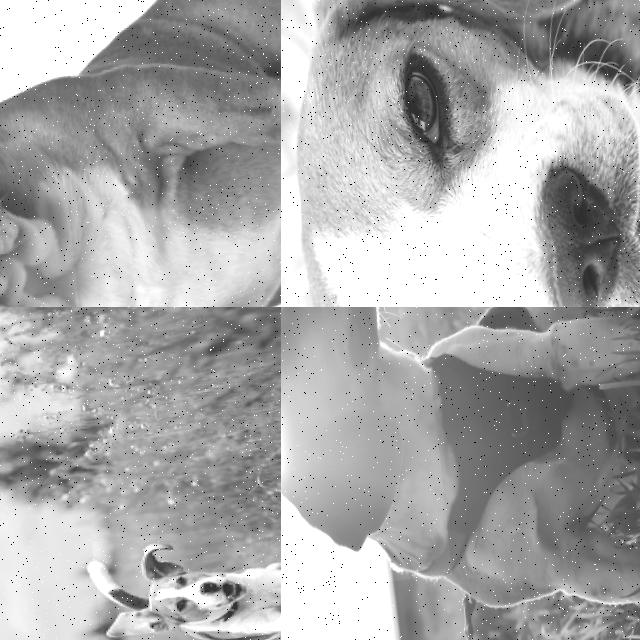beagle: (281, 0, 640, 307), (281, 307, 450, 597), (90, 524, 260, 640)
bulldog: (0, 77, 94, 307)
